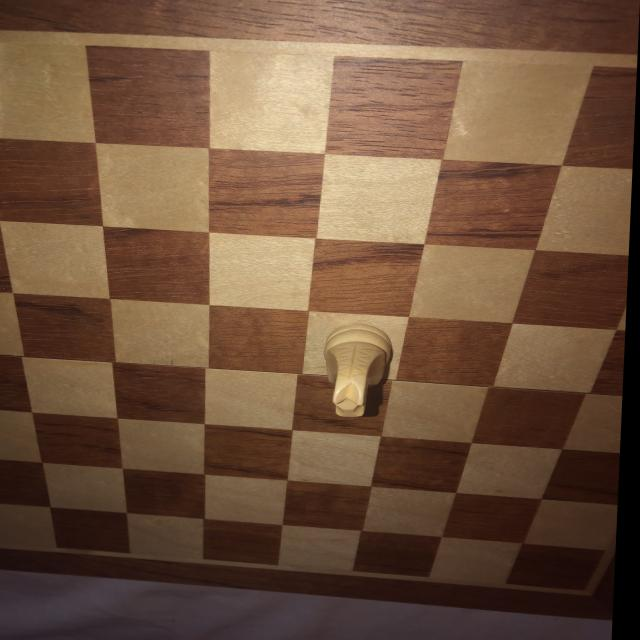white_knight: (322, 324, 397, 424)
